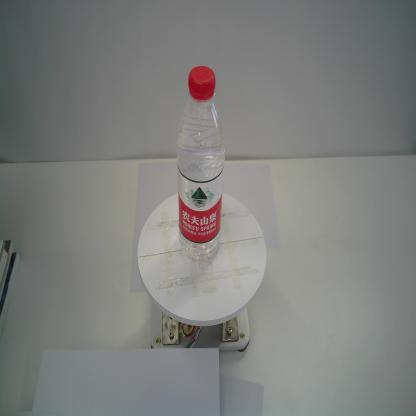Drink: (175, 64, 228, 268)
